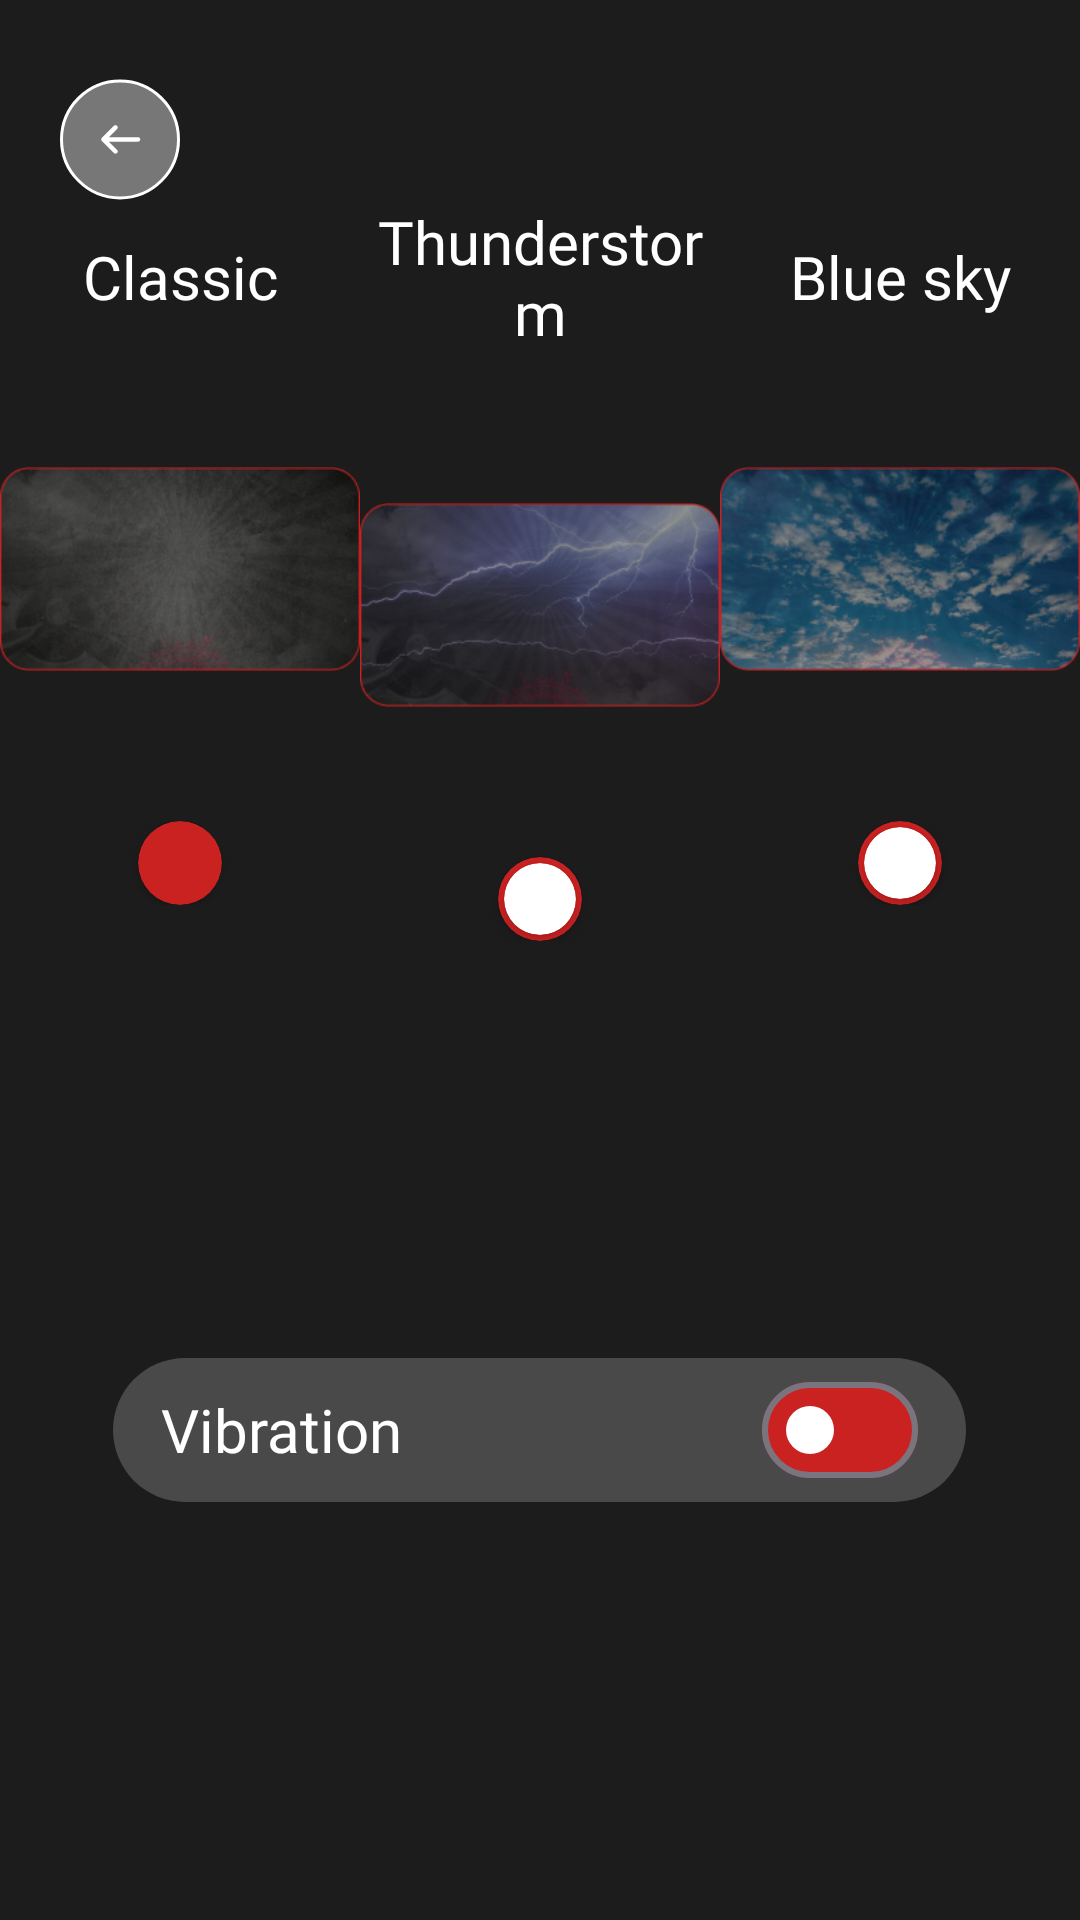

Icons on this 1080 x 1920 Android screen, each with the point to tap as (x=x, y=y):
back: (x=120, y=139)
